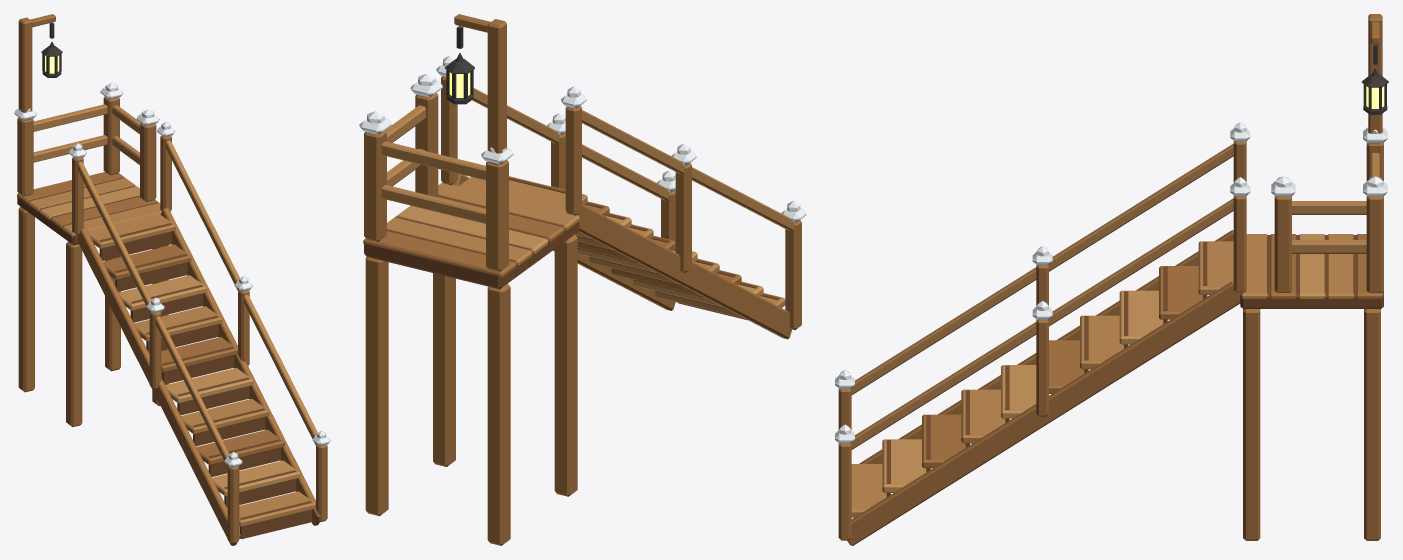
Rendered from mod_stairs_landing_2m.glb.
3 renders of one model, left to right at view 1: azimuth 30°, elevation 25°; view 2: azimuth 150°, elevation 25°; view 3: azimuth 270°, elevation 25°, orthographic. The views are drawn at different scales.
Visible parts, largest first — view 1: mod_stairs_landing_2m, part_landing_lantern; view 2: mod_stairs_landing_2m, part_landing_lantern; view 3: mod_stairs_landing_2m, part_landing_lantern.
Part boxes in pixels (x1,y1,x2,y2): mod_stairs_landing_2m: [14, 14, 330, 545]; part_landing_lantern: [41, 22, 62, 77]; mod_stairs_landing_2m: [359, 14, 806, 545]; part_landing_lantern: [445, 26, 474, 104]; mod_stairs_landing_2m: [835, 14, 1387, 545]; part_landing_lantern: [1361, 44, 1388, 114].
Size of the model in its own units: 1.05 by 3.66 by 3.85.
